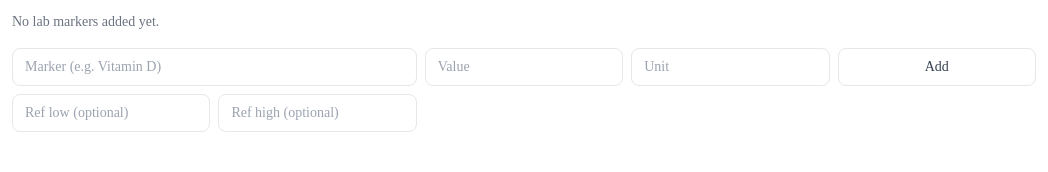
Test case: LabMarkerTable — a cleared range is shown cleared, with the notice (U22, N-115) › blanks the range and shows the notice when the marker no longer resolves to its entry
Type "Glucose" into the field with placeholder "Marker (e.g. Vitamin D)" at point(214, 67), box 12,48 -> 417,86
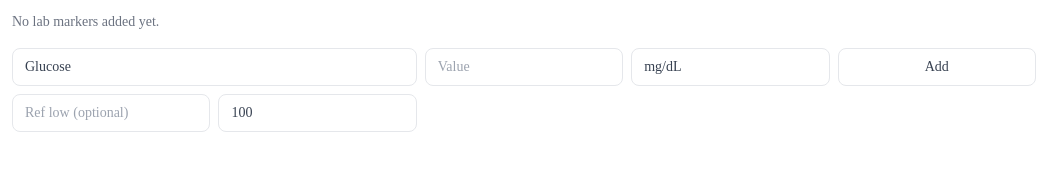
Replace the text in the 1st field with placeholder "Marker (e.g. Vitamin D)" with "Total Magnesium" at point(214, 67), box 12,48 -> 417,86
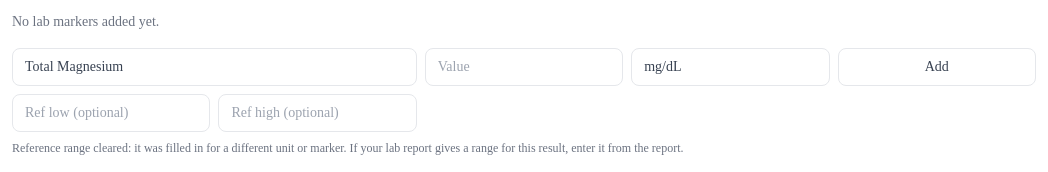
Expected: the field with placeholder "Ref high (optional)" is empty, 218,94 -> 417,132
Expected: the text "Reference range cleared: it was filled in for a different unit or marker. If your lab report gives a range for this resu" is shown, 12,141 -> 684,155
